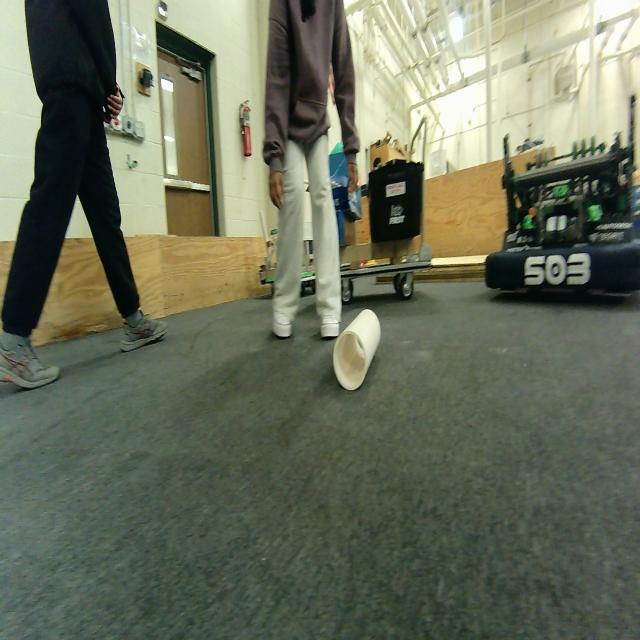coral: (333, 310, 381, 390)
